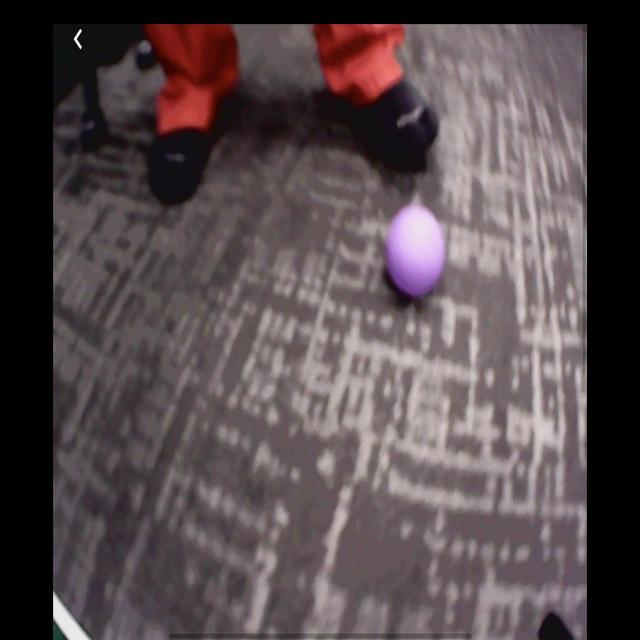ball: (387, 206, 445, 302)
